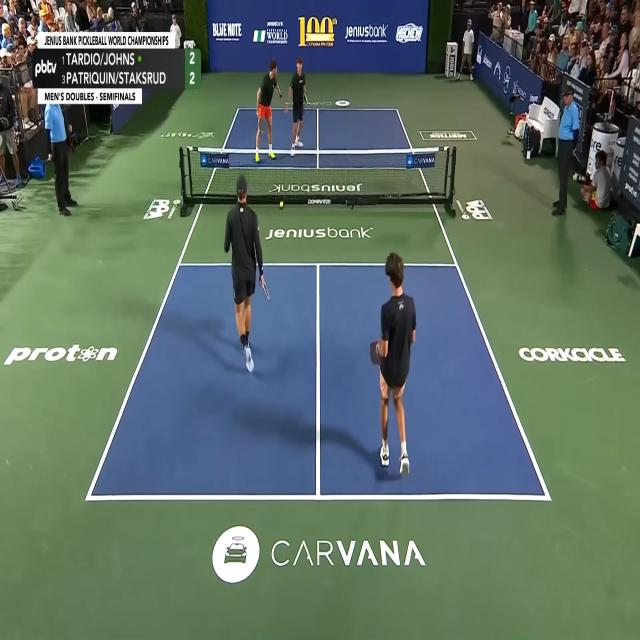ball: (279, 200, 284, 208)
